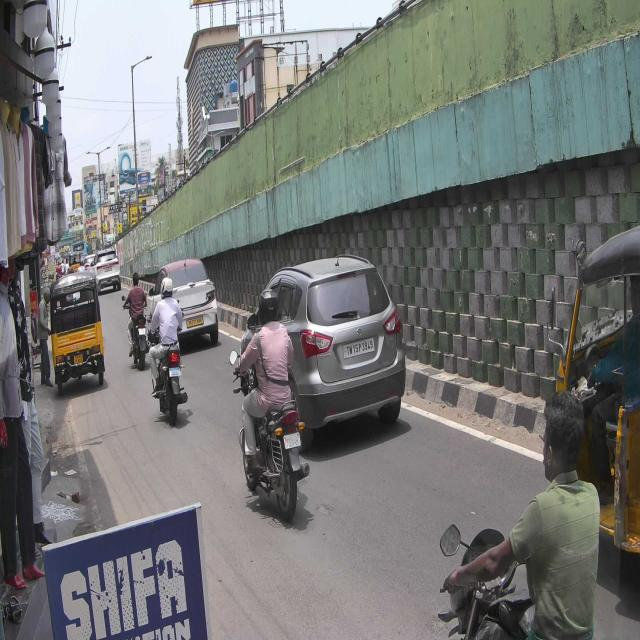single_rider: (229, 287, 310, 524)
